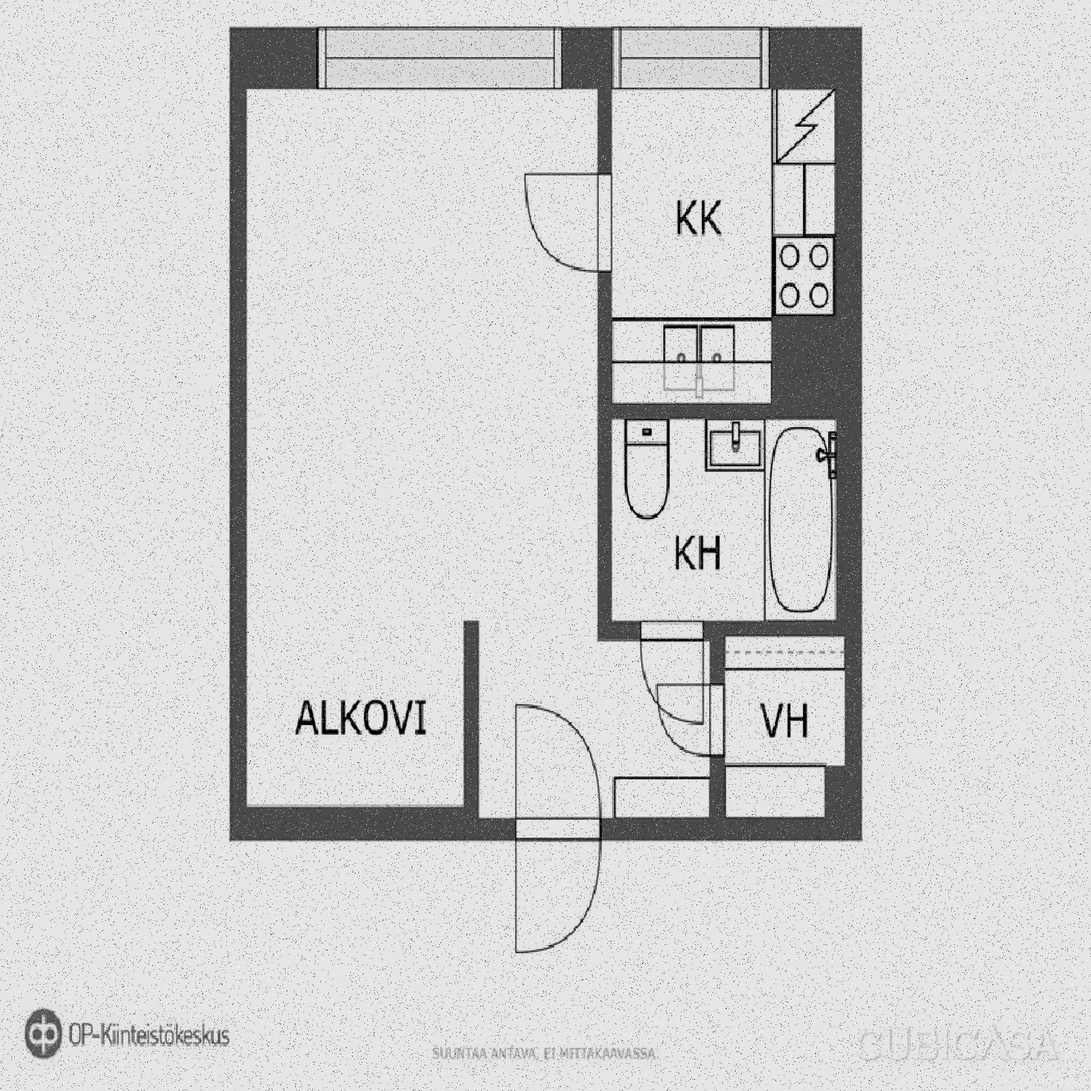wall: (229, 25, 859, 88), (229, 26, 245, 839), (771, 316, 860, 419), (477, 817, 860, 838), (229, 806, 477, 838), (833, 26, 860, 316), (599, 89, 611, 636), (835, 419, 860, 635), (598, 619, 860, 635), (611, 404, 860, 419), (823, 767, 860, 839), (464, 621, 477, 818), (710, 622, 722, 818), (844, 621, 860, 767)
